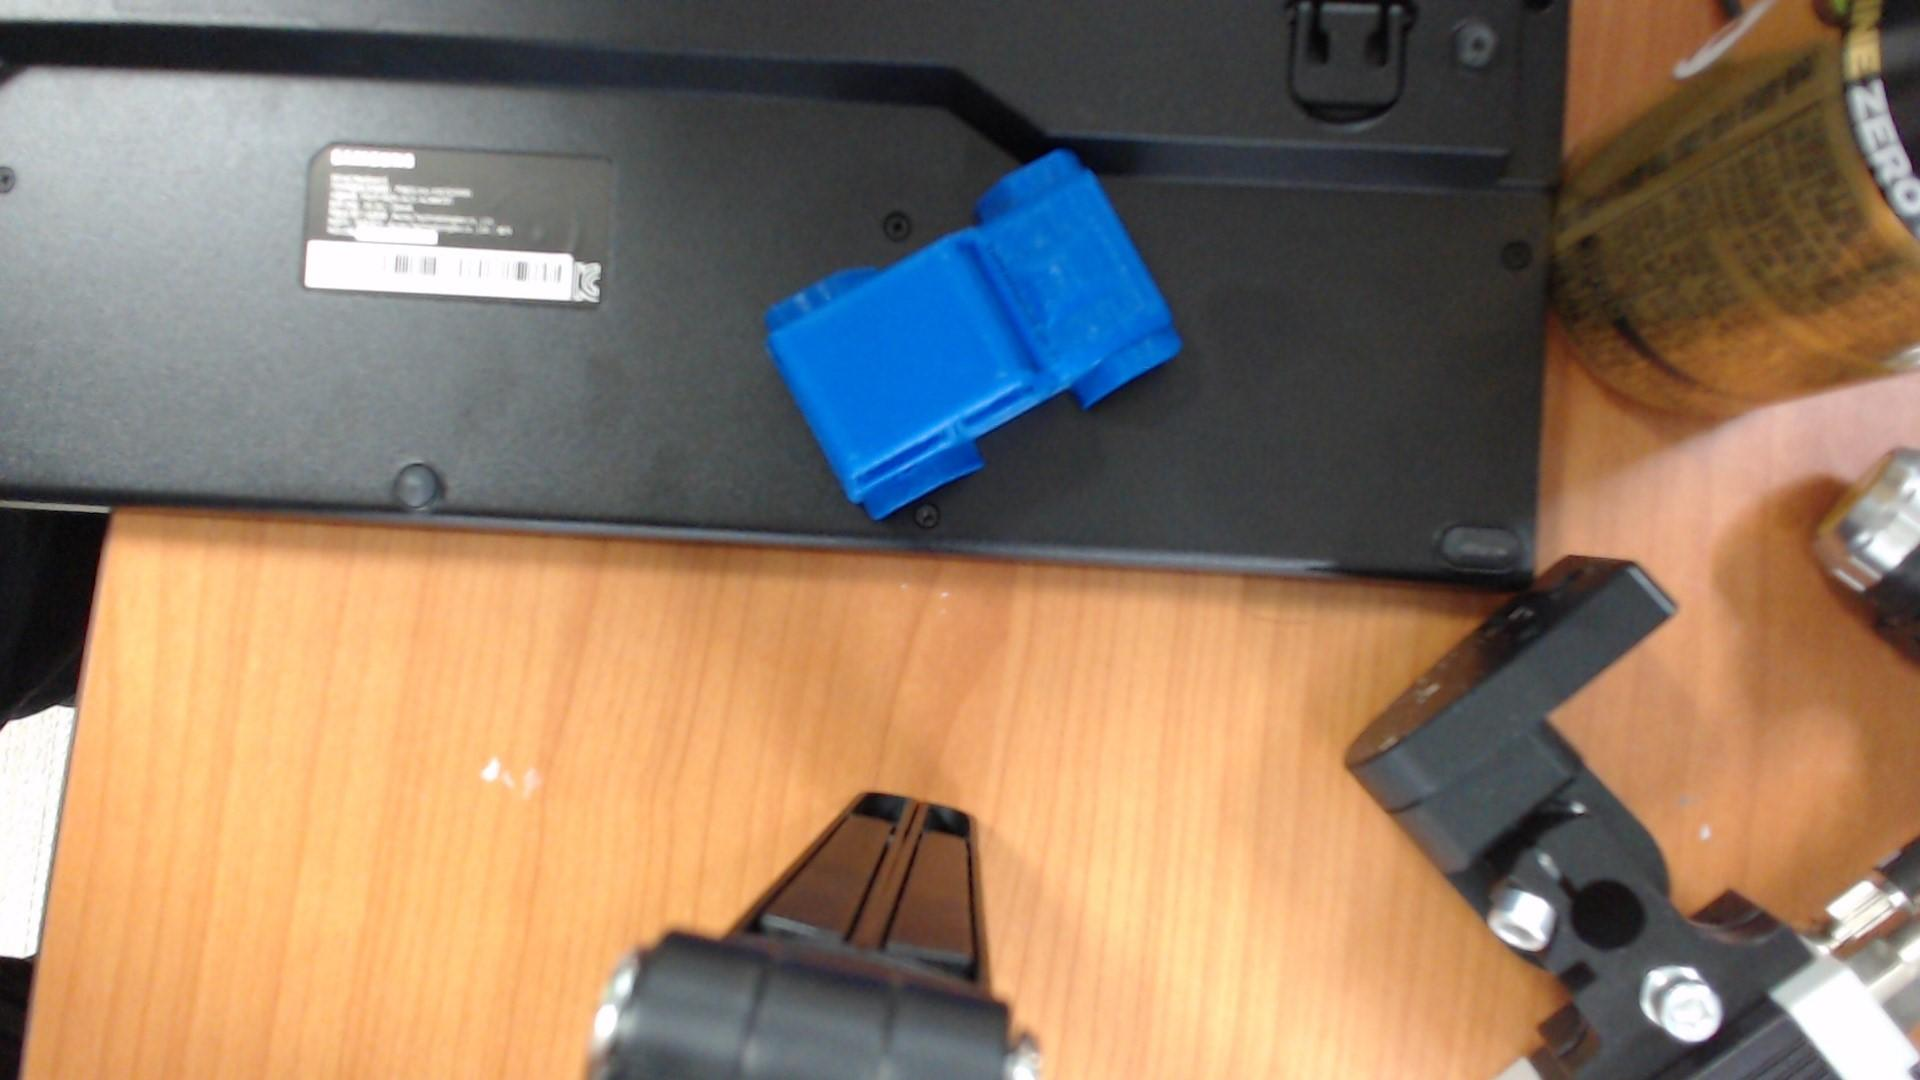Upper_ng: (766, 150, 1182, 520)
